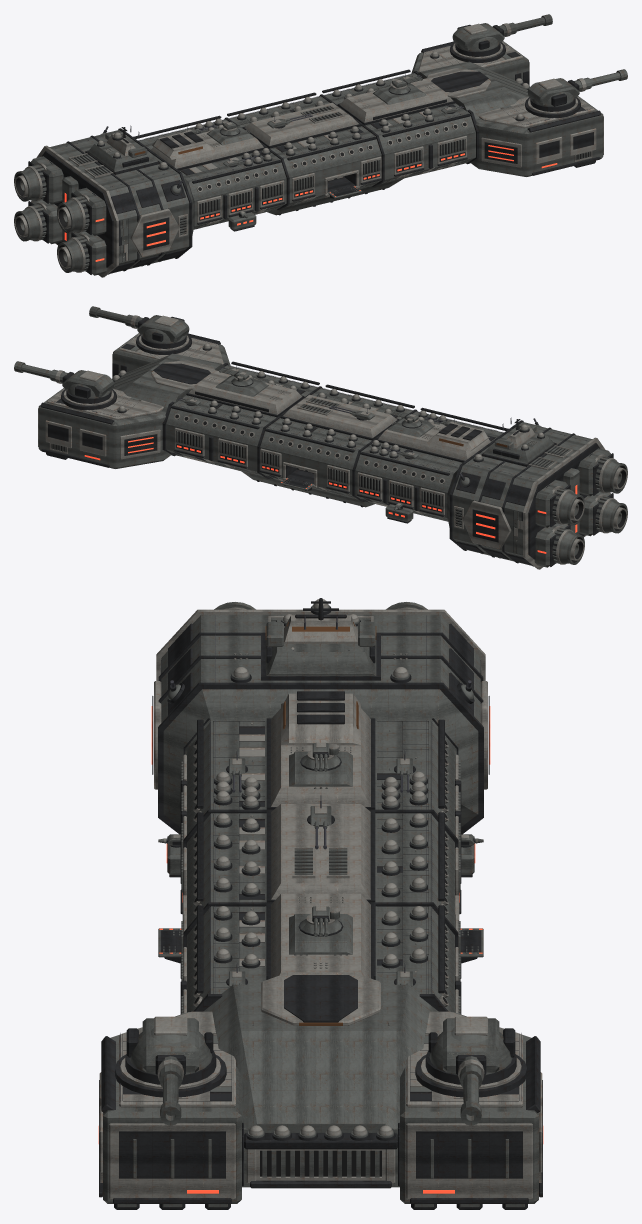
The model's file is 機戰風.glb.
3 views of the same model, one above another, from view 1: azimuth 30°, elevation 25°; view 2: azimuth 150°, elevation 25°; view 3: azimuth 270°, elevation 25° (orthographic). The views are drawn at different scales.
Parts seen in each view (by area): view 1: stern_mid, hull_fore_mid, stern_dark, hull_aft_mid, hull_mid_hull_mid, bow_prong_mid.R, hull_mid_light, hull_aft_light, hull_fore_light, bow_prong_light.R, hull_aft_dark, stern_light (+21 smaller); view 2: stern_mid, hull_fore_mid, stern_dark, hull_aft_mid, hull_mid_hull_mid, bow_prong_mid, hull_mid_light, hull_aft_light, hull_fore_light, bow_prong_light, hull_aft_dark, stern_light (+21 smaller); view 3: bow_centre_mid, stern_mid, hull_aft_mid, hull_fore_mid, hull_mid_hull_mid, stern_dark, hull_mid_light, bow_prong_dark, bow_prong_dark.R, hull_aft_light, bow_prong_light.R, bow_prong_light (+18 smaller).
Part boxes in pixels (left/top/right/bottom): stern_mid: left=31, top=133, right=193, bottom=275; hull_fore_mid: left=324, top=73, right=475, bottom=183; stern_dark: left=28, top=128, right=192, bottom=274; hull_aft_mid: left=138, top=119, right=286, bottom=229; hull_mid_hull_mid: left=229, top=96, right=381, bottom=206; bow_prong_mid.R: left=470, top=96, right=603, bottom=176; hull_mid_light: left=244, top=102, right=381, bottom=201; hull_aft_light: left=151, top=131, right=284, bottom=224; hull_fore_light: left=339, top=78, right=467, bottom=176; bow_prong_light.R: left=478, top=96, right=603, bottom=167; hull_aft_dark: left=133, top=115, right=289, bottom=231; stern_light: left=36, top=145, right=187, bottom=277; stern_mid: left=448, top=425, right=610, bottom=567; hull_fore_mid: left=166, top=365, right=317, bottom=476; stern_dark: left=449, top=420, right=613, bottom=566; hull_aft_mid: left=355, top=411, right=503, bottom=521; hull_mid_hull_mid: left=260, top=388, right=412, bottom=499; bow_prong_mid: left=38, top=388, right=171, bottom=468; hull_mid_light: left=260, top=394, right=397, bottom=493; hull_aft_light: left=357, top=423, right=490, bottom=516; hull_fore_light: left=174, top=370, right=302, bottom=468; bow_prong_light: left=38, top=388, right=163, bottom=459; hull_aft_dark: left=352, top=407, right=508, bottom=523; stern_light: left=454, top=437, right=605, bottom=569; bow_centre_mid: left=203, top=984, right=438, bottom=1187; stern_mid: left=161, top=614, right=480, bottom=827; hull_aft_mid: left=167, top=721, right=474, bottom=874; hull_fore_mid: left=181, top=906, right=460, bottom=1014; hull_mid_hull_mid: left=187, top=813, right=454, bottom=927; stern_dark: left=152, top=623, right=489, bottom=834; hull_mid_light: left=182, top=804, right=459, bottom=947; bow_prong_dark: left=398, top=1036, right=542, bottom=1209; bow_prong_dark.R: left=99, top=1036, right=243, bottom=1209; hull_aft_light: left=183, top=693, right=458, bottom=847; bow_prong_light.R: left=99, top=1011, right=235, bottom=1199; bow_prong_light: left=406, top=1011, right=542, bottom=1199.
Bounding box in the file's own units: 1200 × 256 × 423.
Materials: 7 (4 with a texture image).
